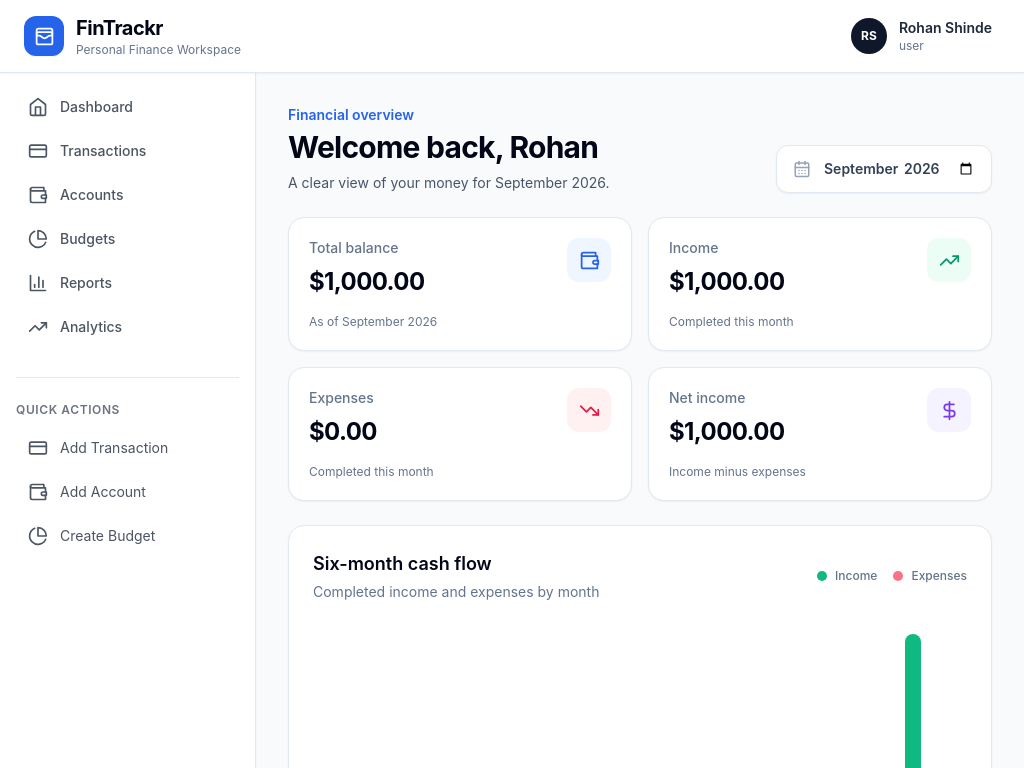
App › returns to sign in when the user logs out
The image size is (1024, 768).
Expected: the heading "Welcome back, Rohan" is shown, x1=288 y1=129 x2=610 y2=165
Click the button with aria-label "Account menu".
click(921, 36)  # box x1=843 y1=12 x2=1000 y2=60
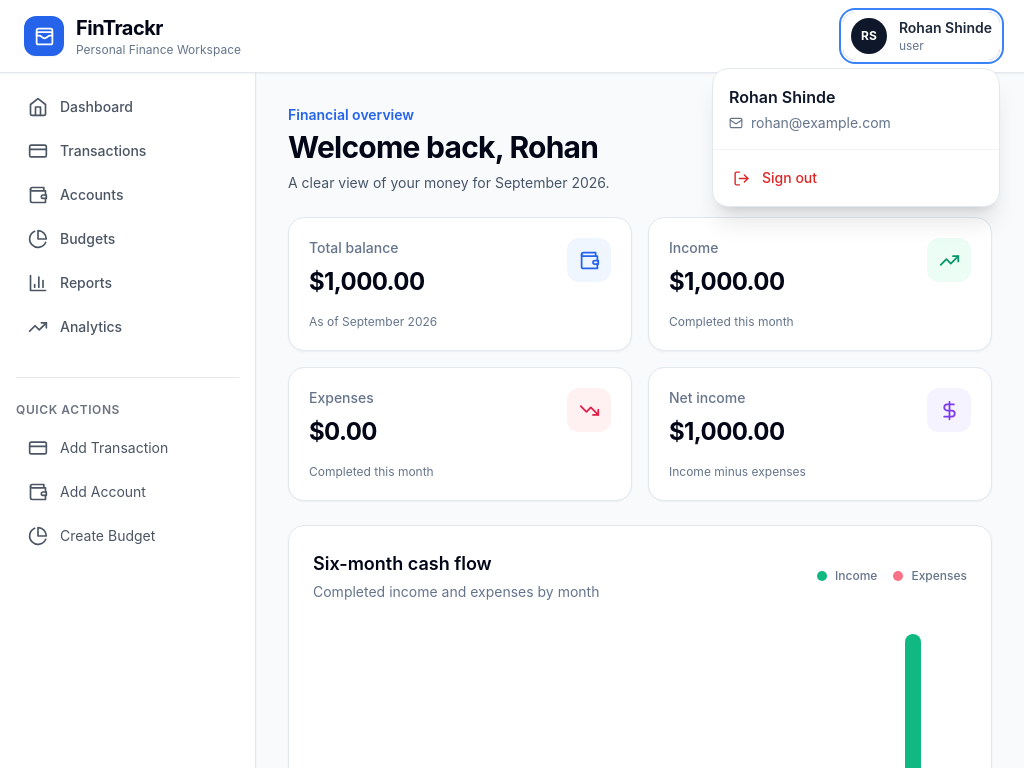
Click the menu item "Sign out".
click(790, 178)  # box x1=721 y1=158 x2=991 y2=198
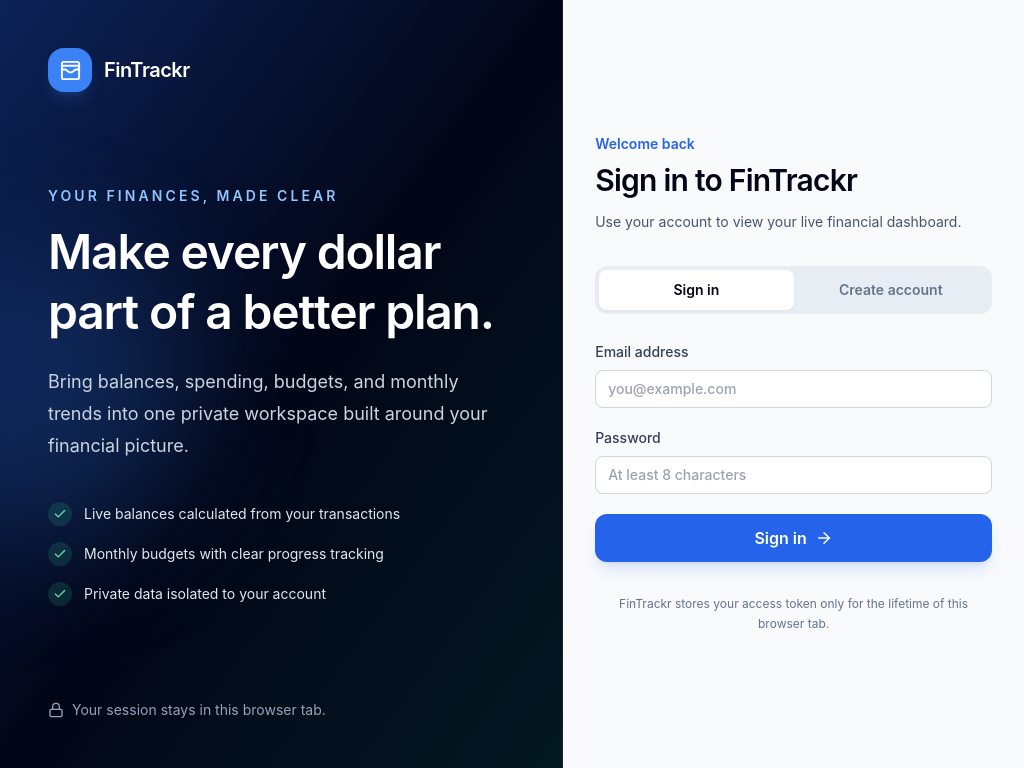
Expected: the heading "Sign in to FinTrackr" is shown, x1=595 y1=162 x2=857 y2=198
